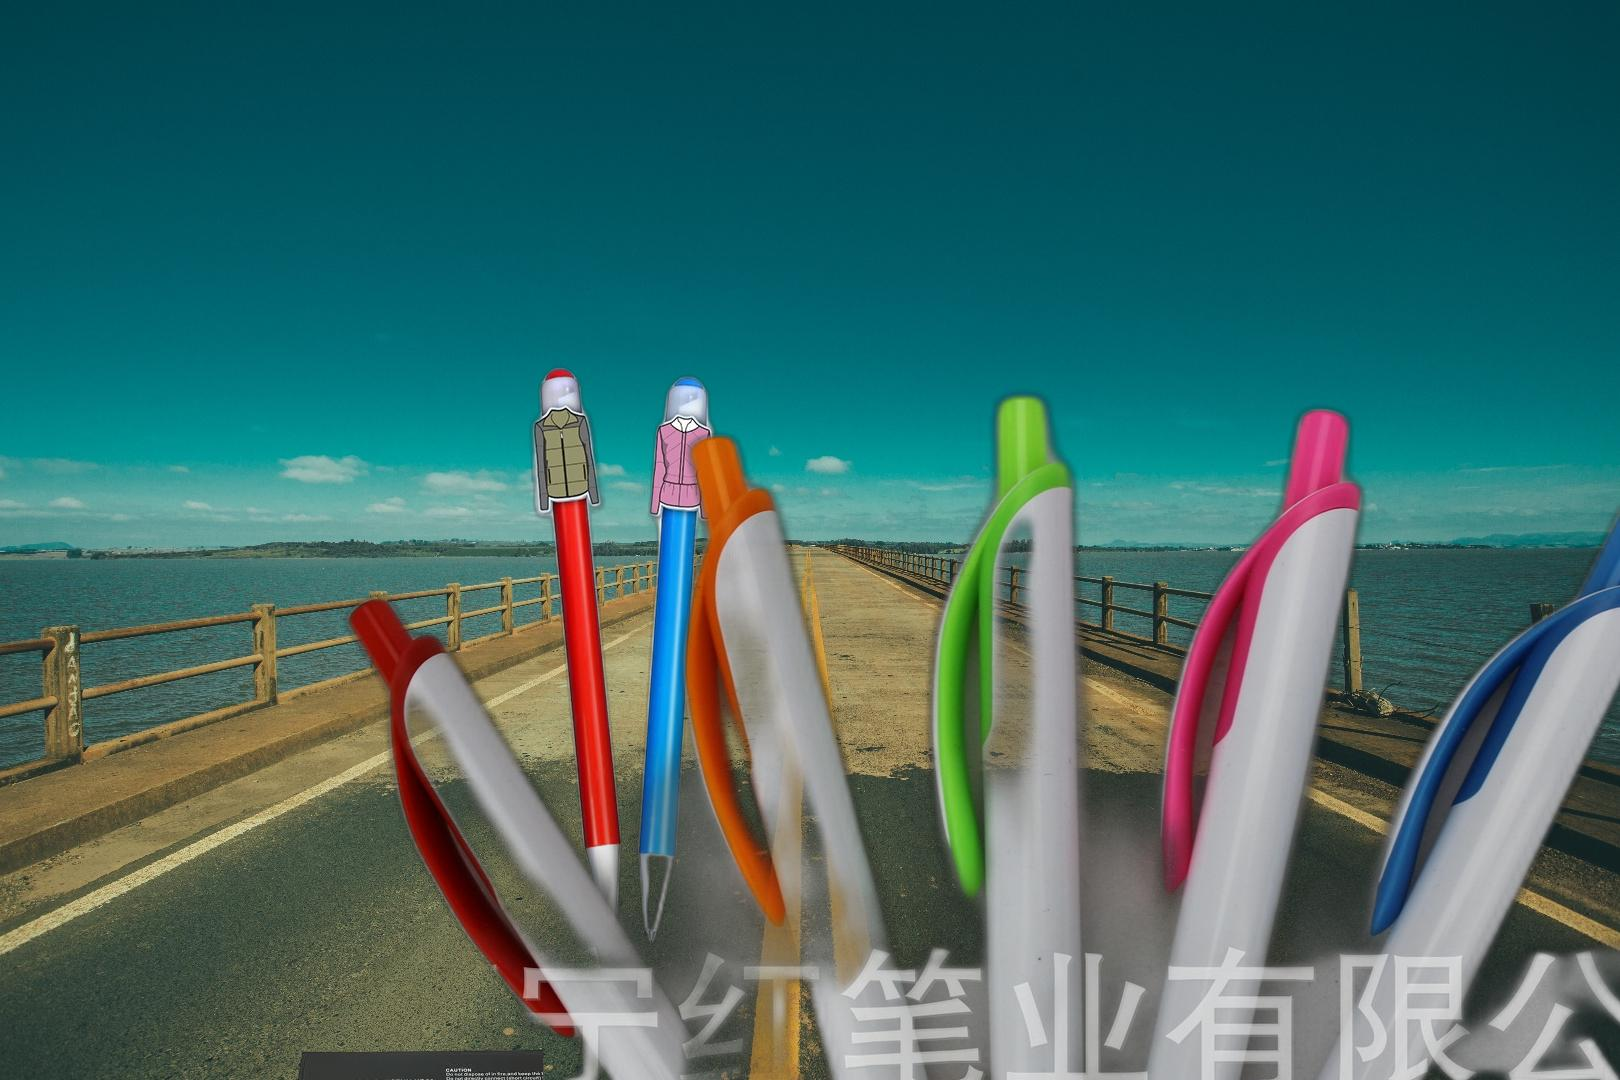battery: (293, 1047, 542, 1080)
penholder: (329, 381, 1620, 1080), (526, 360, 722, 950)
